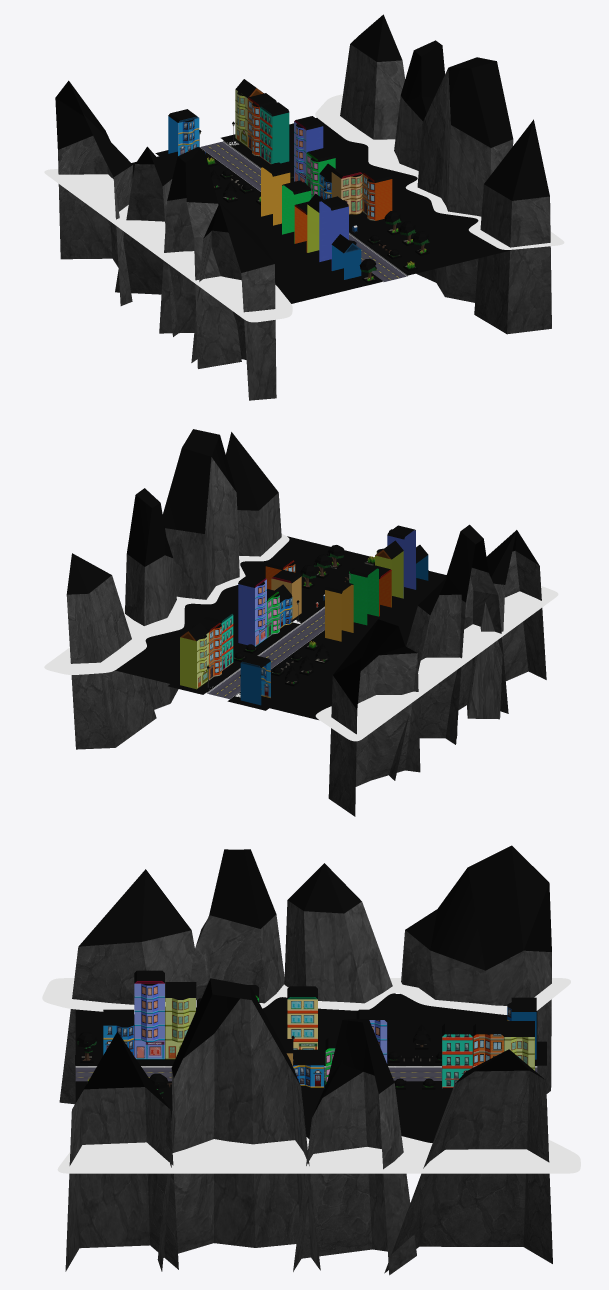
Rendered from citywinter_04.fbx.
The picture shows the model from 3 angles, top to bottom: view 1: azimuth 30°, elevation 25°; view 2: azimuth 150°, elevation 25°; view 3: azimuth 270°, elevation 25°; orthographic projection. The views are drawn at different scales.
Parts seen in each view (by area): view 1: City_04; view 2: City_04; view 3: City_04.
Part boxes in pixels (box(x1,y1,x2,y2)): City_04: box(44, 14, 564, 400); City_04: box(44, 429, 558, 816); City_04: box(42, 845, 580, 1275).
Size of the model in its own units: 22617 by 13384 by 25170.
